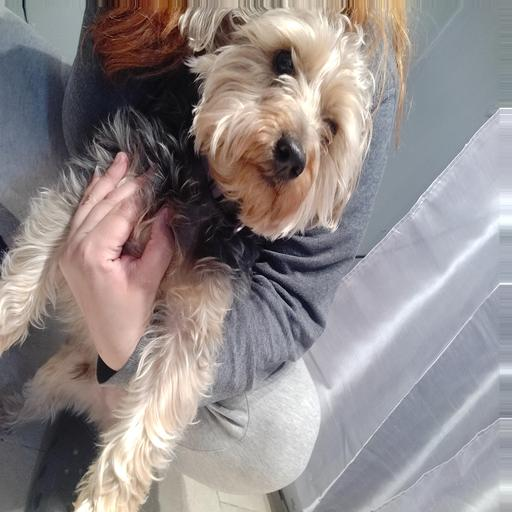dog: (178, 1, 402, 224)
